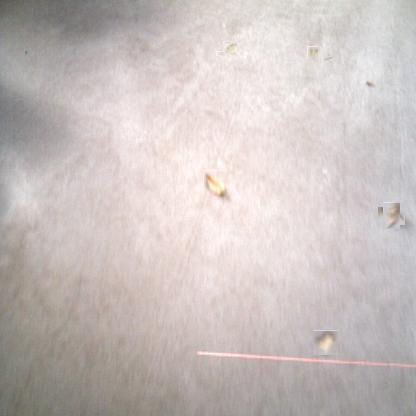dirty: (203, 170, 226, 197), (314, 330, 338, 355), (380, 205, 403, 227), (223, 42, 237, 53), (307, 46, 318, 59), (364, 78, 374, 88)
mark: (324, 54, 334, 63), (217, 50, 224, 57), (24, 48, 28, 56)
